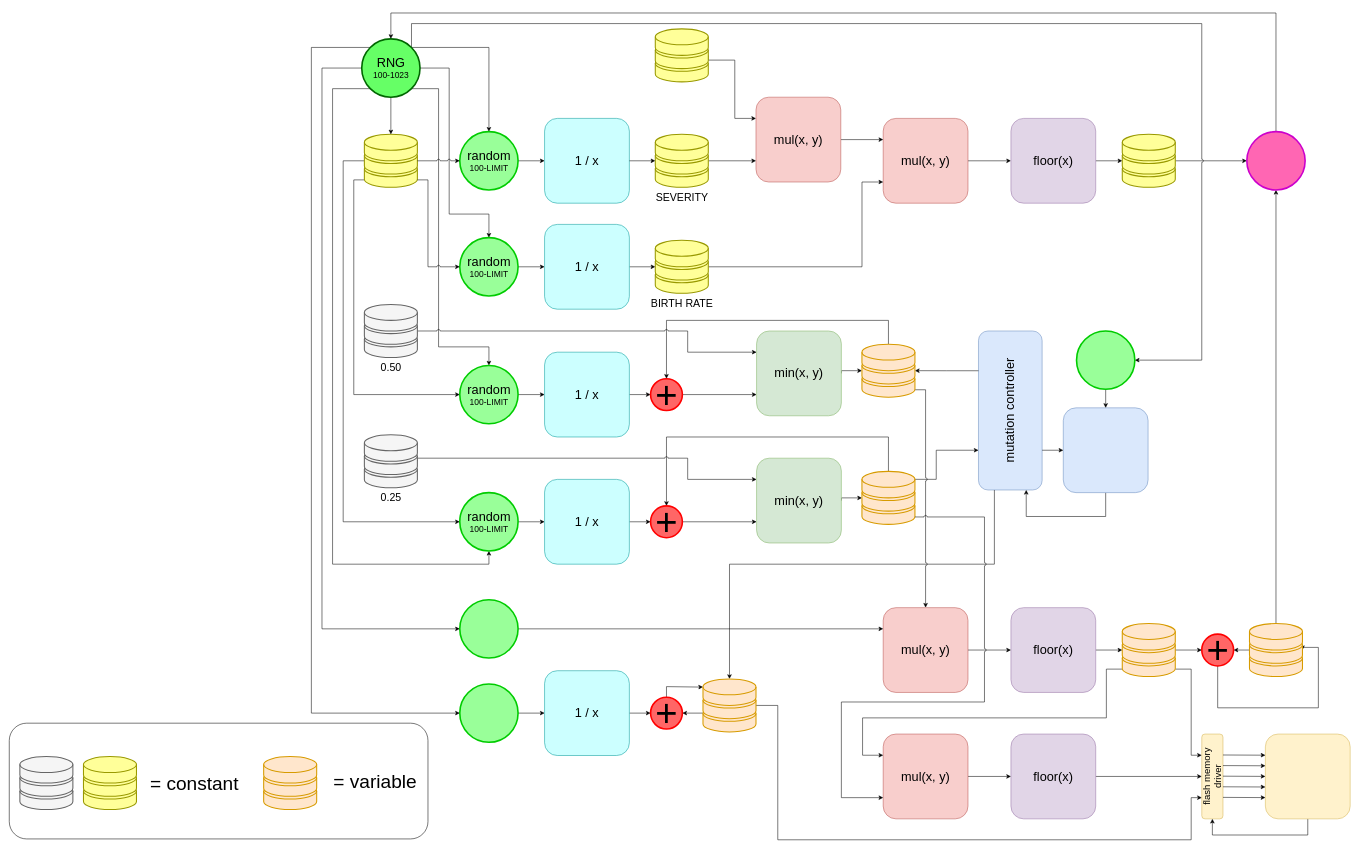
This 1359x853 diagram has some shape labels left out. Each missing label, with the centre of its shape:
CURE: the point at 729,705
CURE THRESHOLD: the point at 1148,161
FATALITY: the point at 888,498
flash memory: the point at 1307,776
INFECTED TODAY: the point at 1148,650
INFECTIVITY: the point at 888,370
LIMIT: the point at 391,161
main: the point at 1276,160
mutation: the point at 1105,450
POPULATION TOTAL: the point at 681,55
random 0-8: the point at 1105,360
random 2-100: the point at 489,713
random TIME-999: the point at 489,629
TOTAL INFECTED: the point at 1276,650
